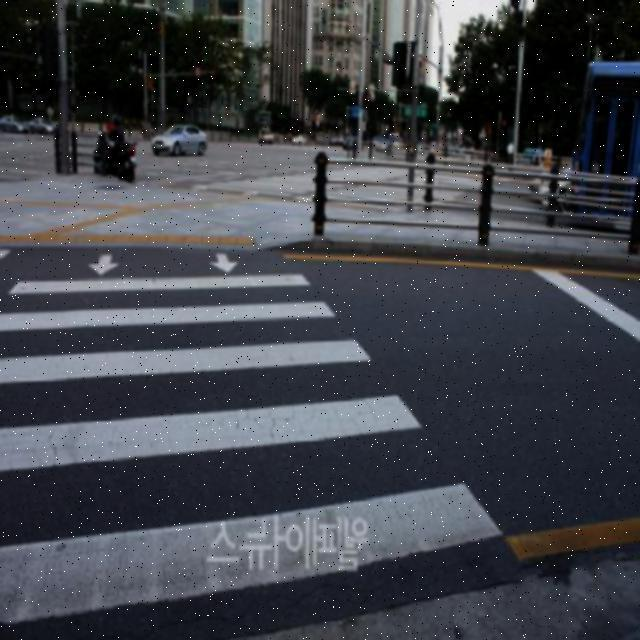Pedestrian crosswalk: (0, 245, 497, 636)
